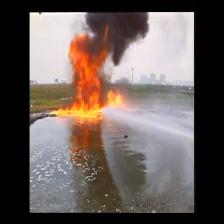fire: (57, 29, 125, 124)
